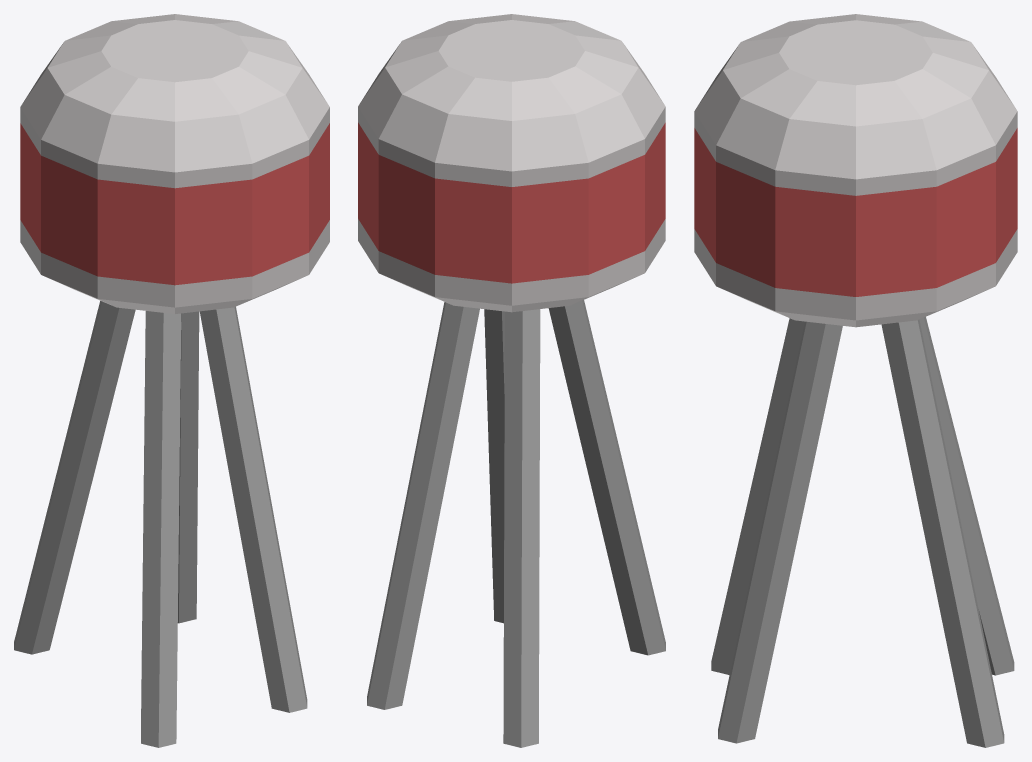
Rendered from Water Tower2.fbx.
3 renders of one model, left to right at view 1: azimuth 30°, elevation 25°; view 2: azimuth 150°, elevation 25°; view 3: azimuth 270°, elevation 25°, orthographic. The views are drawn at different scales.
Visible parts, largest first — view 1: pCylinder3; view 2: pCylinder3; view 3: pCylinder3.
Part boxes in pixels (x1=…): pCylinder3: x1=14, y1=14, x2=329, y2=747; pCylinder3: x1=358, y1=14, x2=665, y2=747; pCylinder3: x1=694, y1=14, x2=1017, y2=747.
Size of the model in its own units: 7.68 by 17.11 by 7.68.
